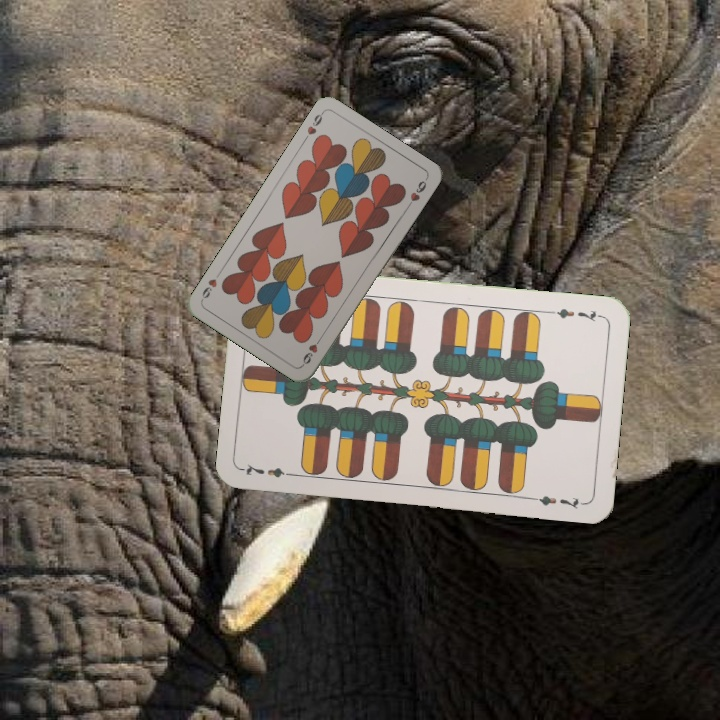E7: (545, 304, 604, 325), (240, 460, 299, 480)
H9: (298, 332, 325, 368), (299, 108, 326, 144)
